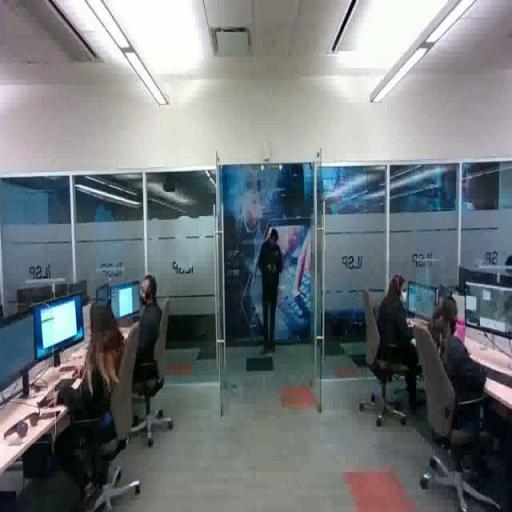person: (56, 296, 128, 512), (422, 296, 512, 458), (374, 274, 432, 419), (121, 274, 162, 410), (258, 228, 285, 356)
